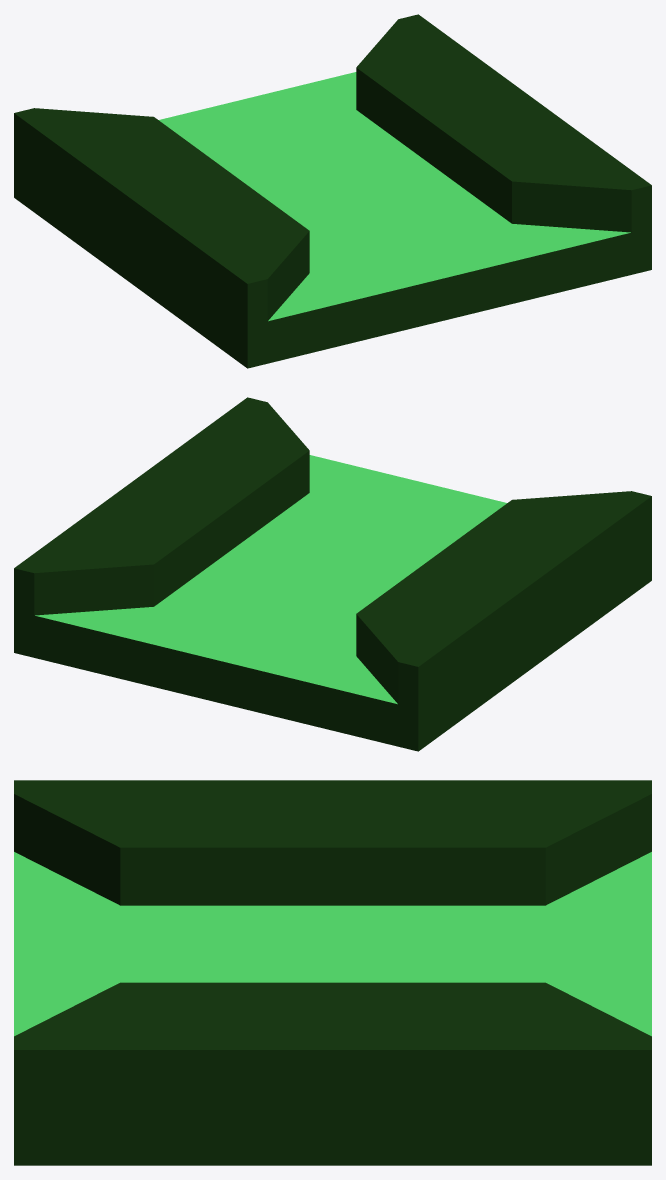
File: MG Straight Angles.fbx
3 views of the same model, one above another, from view 1: azimuth 30°, elevation 25°; view 2: azimuth 150°, elevation 25°; view 3: azimuth 270°, elevation 25° (orthographic). The views are drawn at different scales.
Visible parts, largest first — view 1: MG Straight Angles; view 2: MG Straight Angles; view 3: MG Straight Angles.
Boxes of the visible parts, bbox=[...] form: MG Straight Angles: bbox=[14, 14, 651, 368]; MG Straight Angles: bbox=[14, 397, 651, 751]; MG Straight Angles: bbox=[14, 780, 651, 1165].
Bounding box in the file's own units: 200 × 40 × 200.
